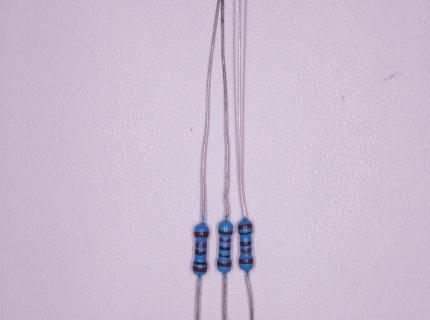Black band: (193, 260, 208, 266), (239, 230, 253, 236), (195, 249, 207, 255), (219, 246, 231, 251), (240, 241, 252, 246), (219, 254, 231, 258)
Brown band: (217, 261, 233, 268), (194, 231, 209, 238), (238, 223, 253, 230), (193, 266, 208, 273), (218, 230, 233, 236), (239, 258, 254, 264)
Red band: (240, 248, 252, 254), (195, 242, 207, 248), (219, 238, 231, 243)
